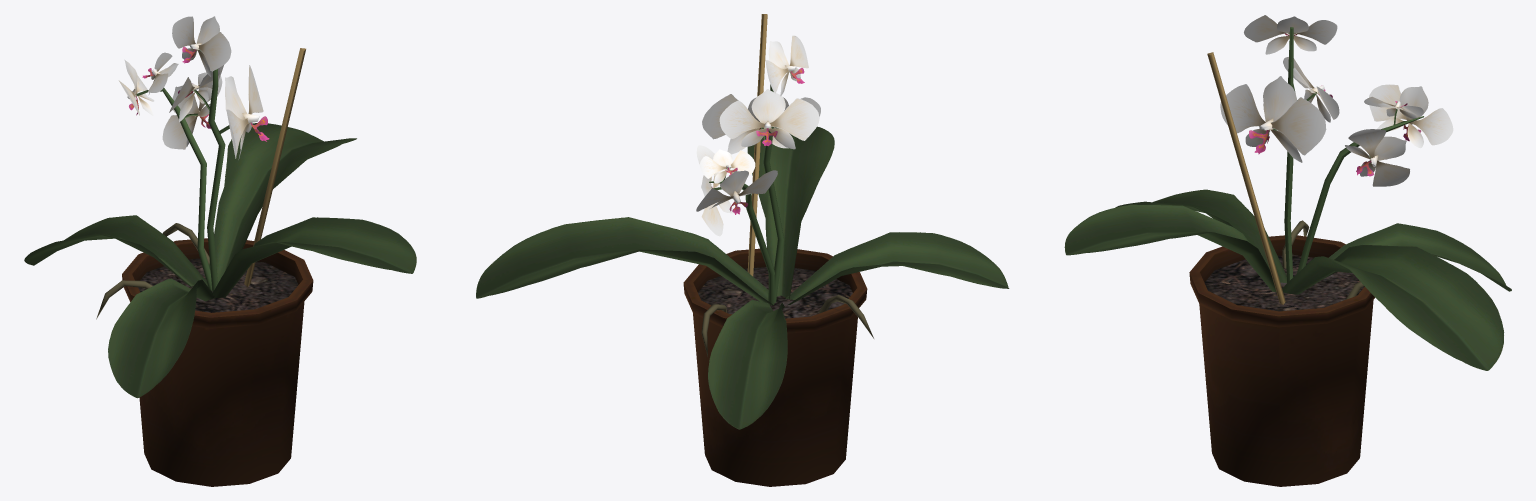
File: Orchid_White_02.dae
3 renders of one model, left to right at view 1: azimuth 30°, elevation 25°; view 2: azimuth 150°, elevation 25°; view 3: azimuth 270°, elevation 25°, orthographic. The views are drawn at different scales.
Visible parts, largest first — view 1: polySurface1876; view 2: polySurface1876; view 3: polySurface1876.
Part boxes in pixels (<box>): polySurface1876: <box>24,16,416,486</box>; polySurface1876: <box>476,14,1009,486</box>; polySurface1876: <box>1064,15,1511,486</box>.
Size of the model in its own units: 1.28 by 1.3 by 1.26.
Materials: 1 (1 with a texture image).
